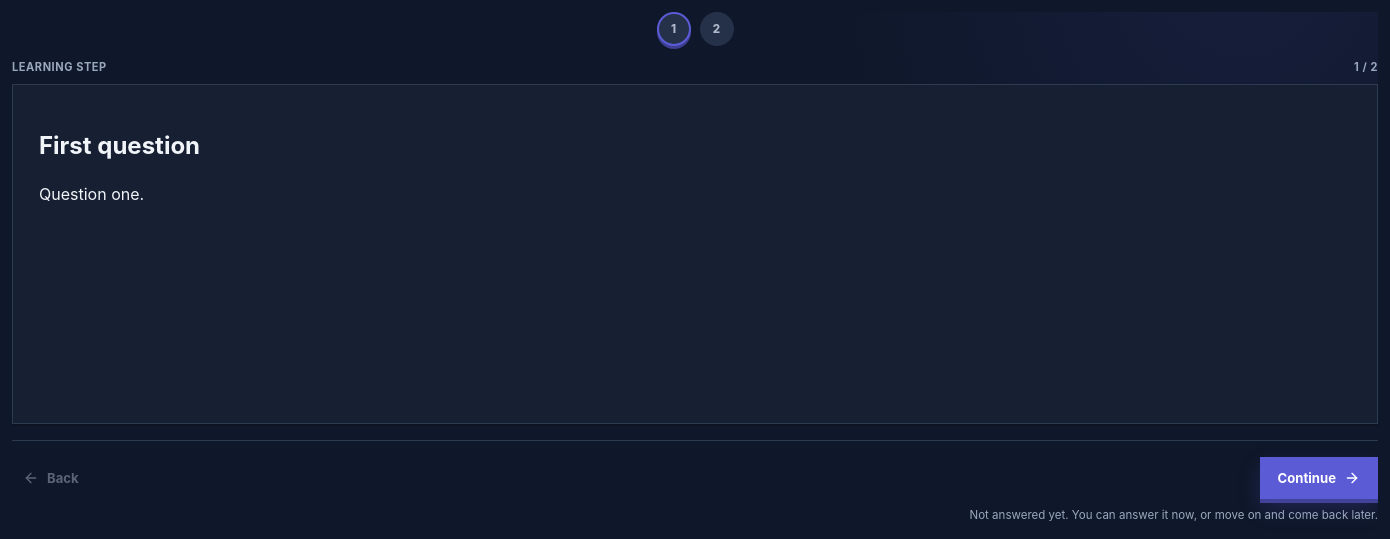
LearningFlow › moving freely between steps › lets a student continue without answering
This screenshot has width=1390, height=539.
Expected: the text "Not answered yet" is shown, [970,508,1378,522]
Click the button "Continue".
click(1319, 478)  # box [1260,457,1378,499]
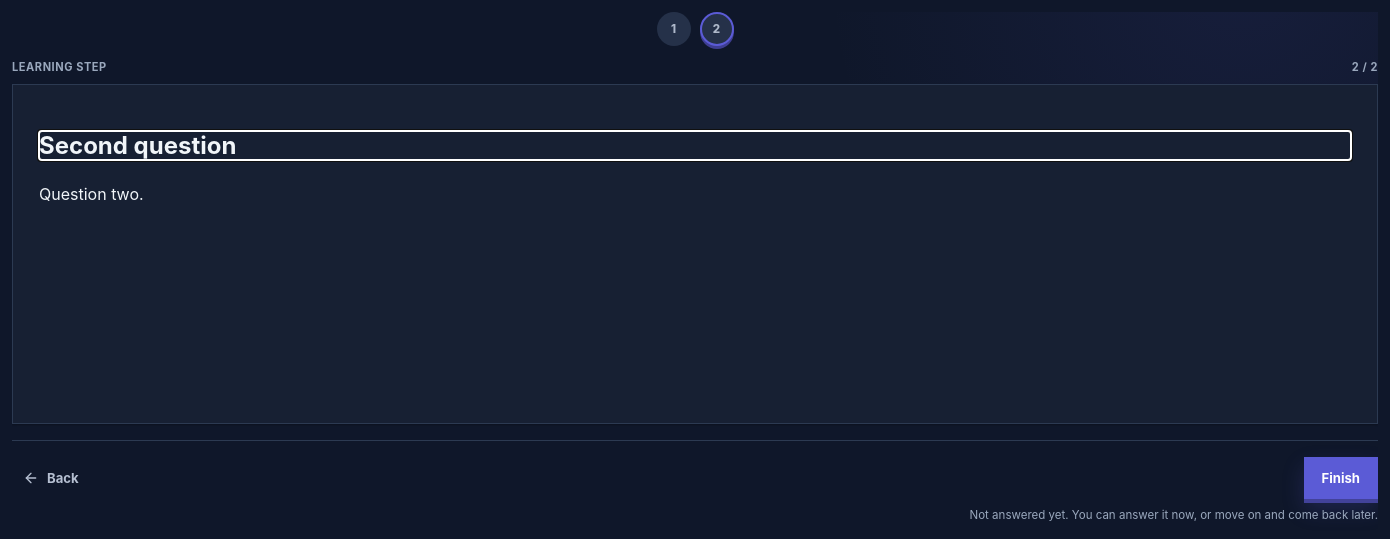
Expected: the text "Not answered yet" is shown, [970,508,1378,522]
Expected: the heading "Second question" is shown, [39,131,236,160]
